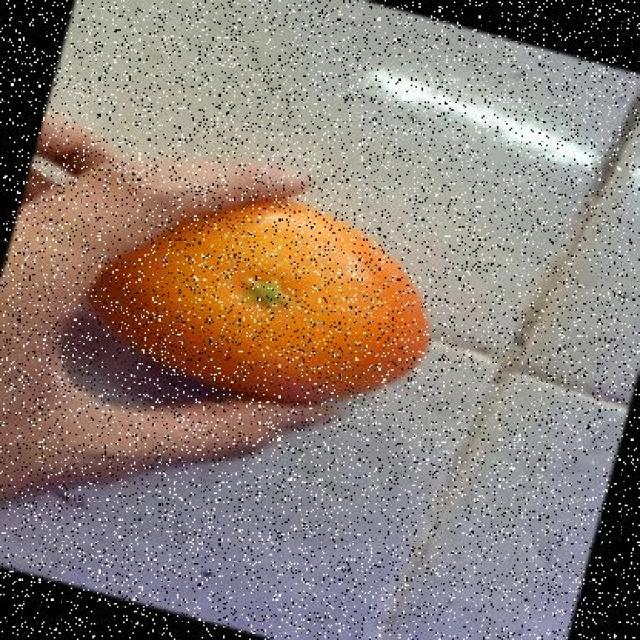Orange: (84, 193, 430, 404)
